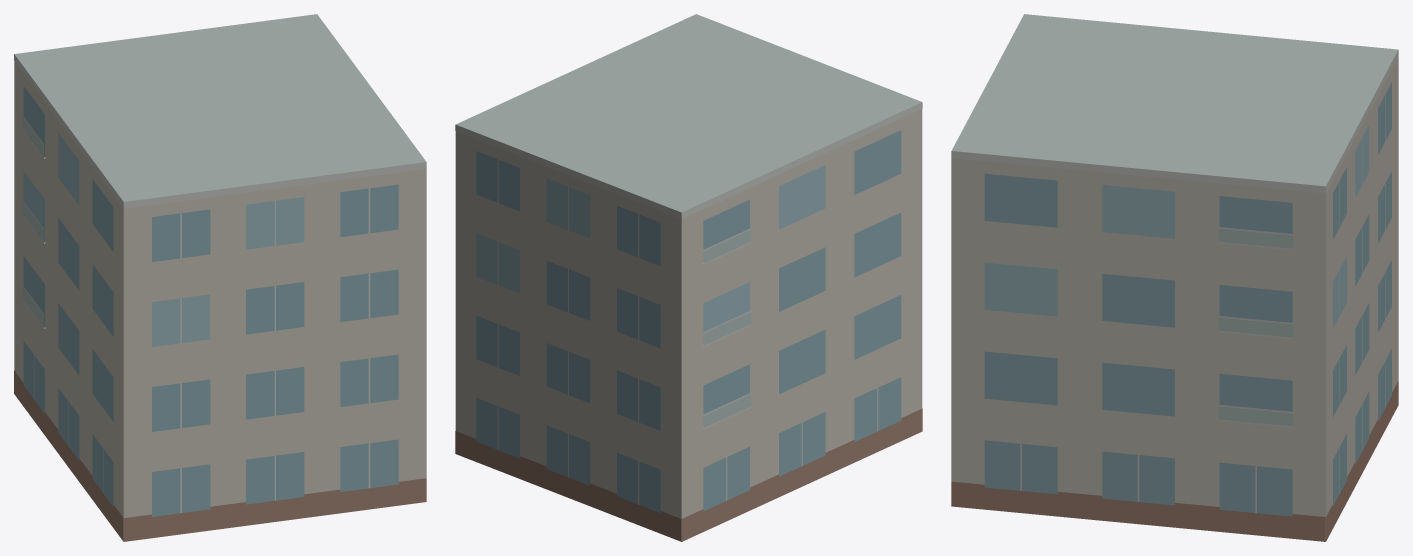
Rendered from residential-a0490710-e047-41ad-b7b7-534ac74f373a.glb.
The picture shows the model from 3 angles, left to right: view 1: azimuth 30°, elevation 25°; view 2: azimuth 150°, elevation 25°; view 3: azimuth 270°, elevation 25°; orthographic projection. The views are drawn at different scales.
Parts seen in each view (by area): view 1: residential-a0490710-e047-41ad-b7b7-534ac74f373a.tmp; view 2: residential-a0490710-e047-41ad-b7b7-534ac74f373a.tmp; view 3: residential-a0490710-e047-41ad-b7b7-534ac74f373a.tmp.
Boxes of the visible parts, x1=… form: residential-a0490710-e047-41ad-b7b7-534ac74f373a.tmp: x1=14, y1=14, x2=426, y2=541; residential-a0490710-e047-41ad-b7b7-534ac74f373a.tmp: x1=455, y1=14, x2=922, y2=541; residential-a0490710-e047-41ad-b7b7-534ac74f373a.tmp: x1=951, y1=14, x2=1398, y2=541.
Size of the model in its own units: 12.7 by 12.2 by 13.92.
